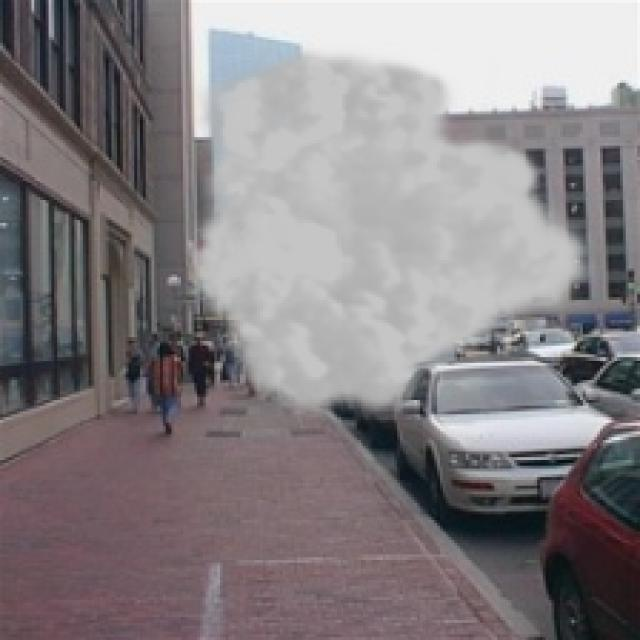Smoke: (183, 42, 603, 428)
